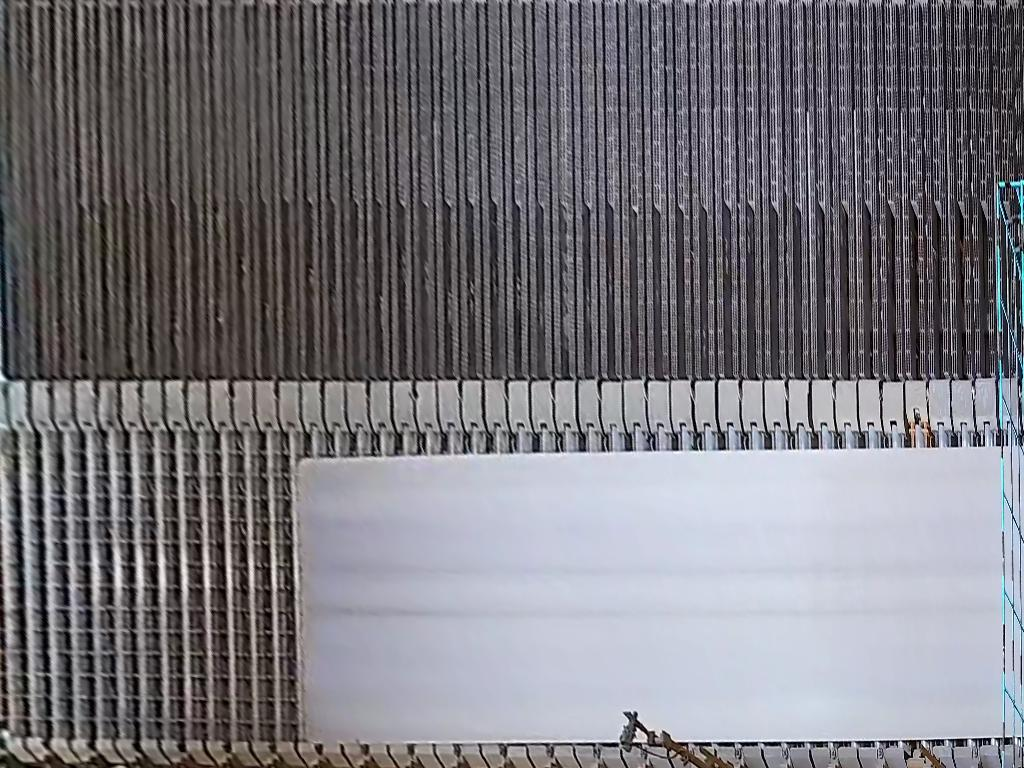steel: (300, 444, 1024, 745)
